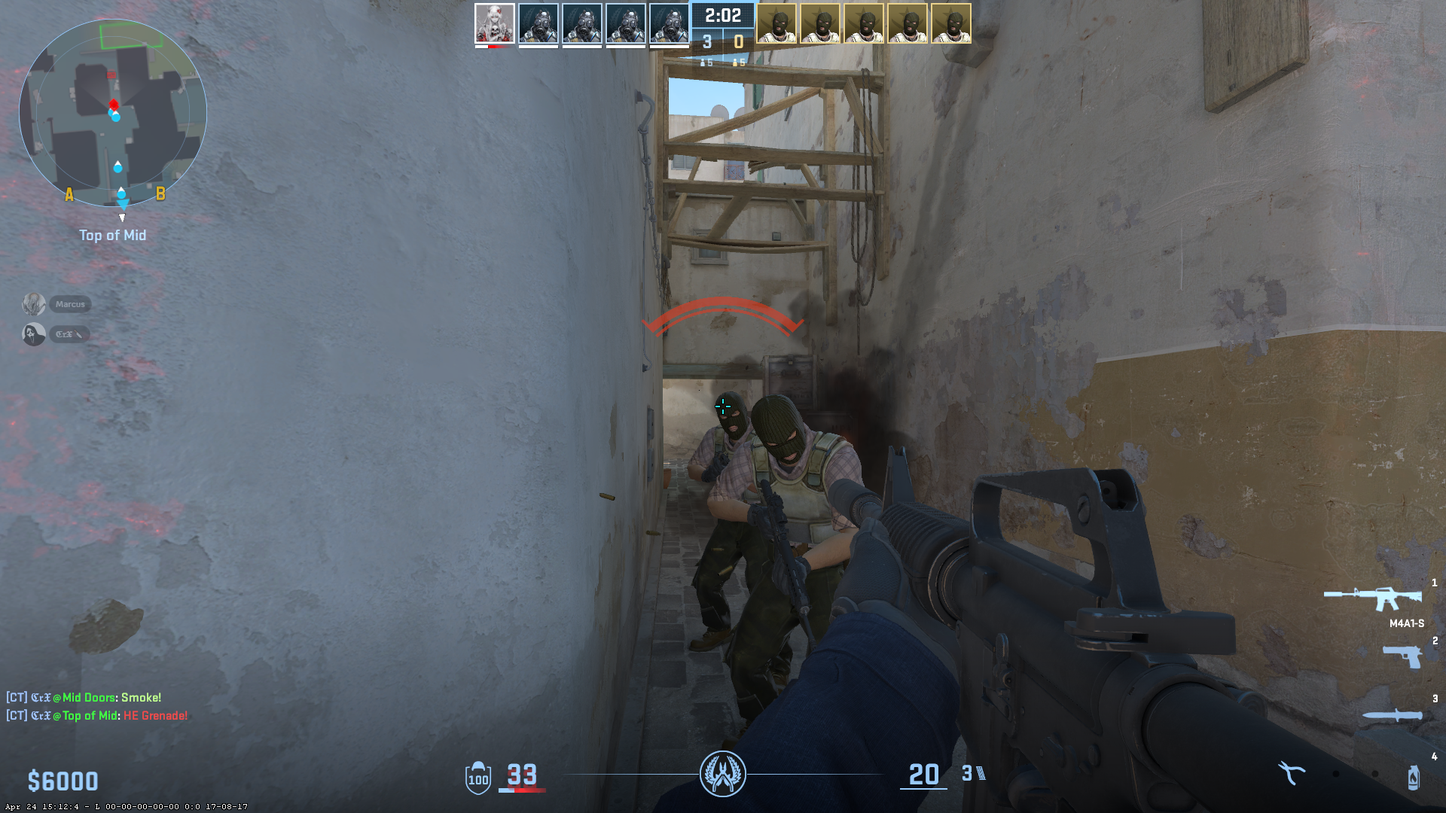T: (737, 395, 842, 715), (685, 390, 742, 655)
